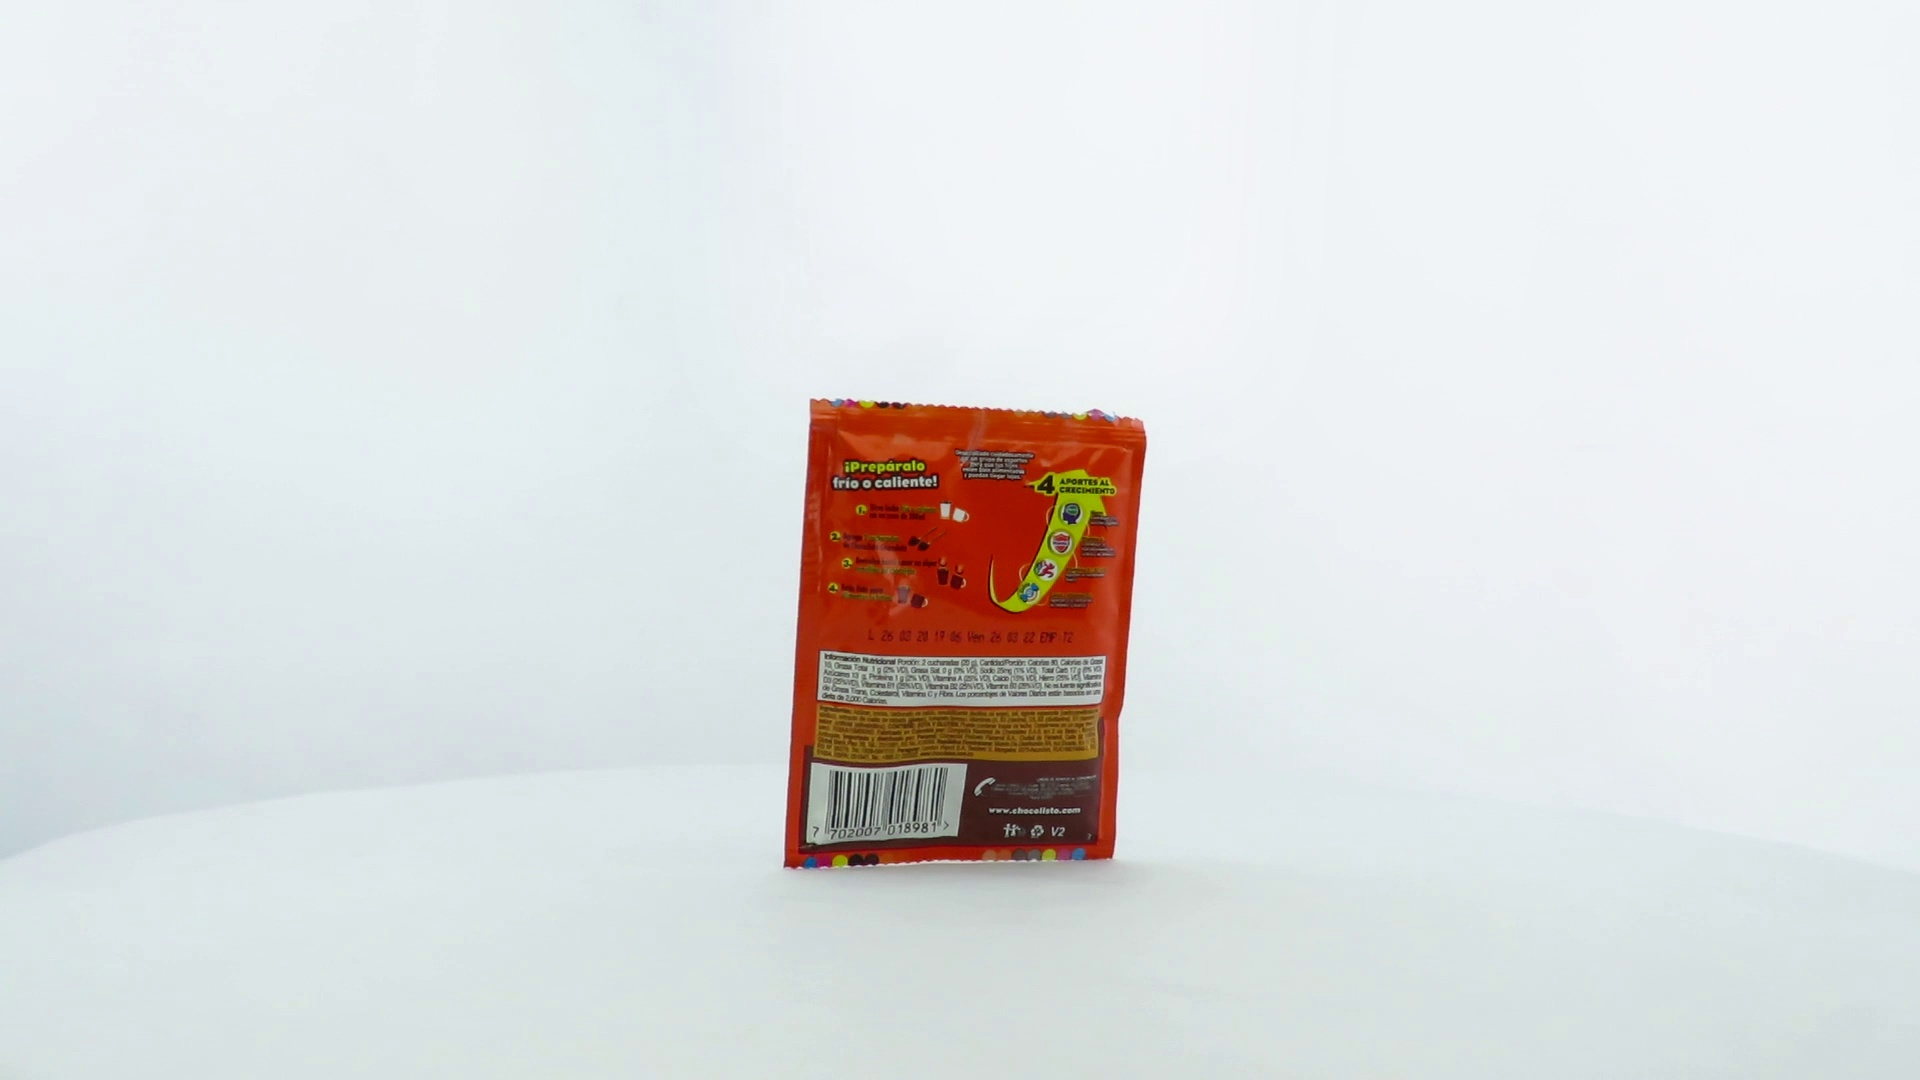COL0170103SOB02000: (778, 393, 1153, 876)
